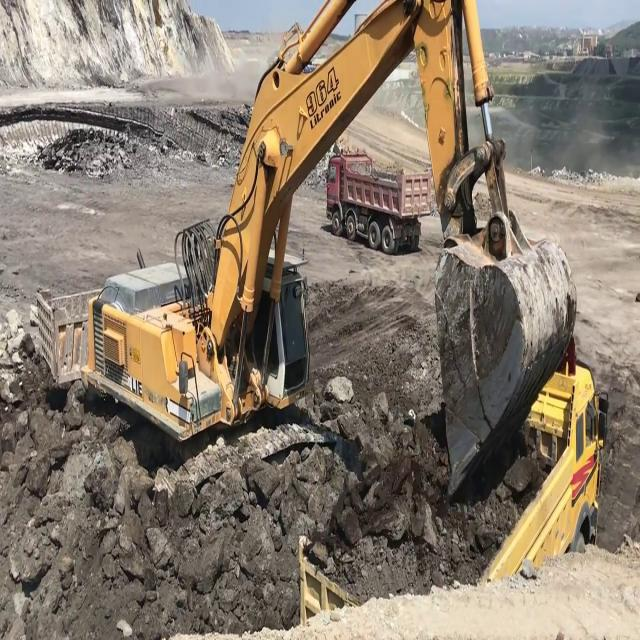excavator: (77, 1, 580, 512)
